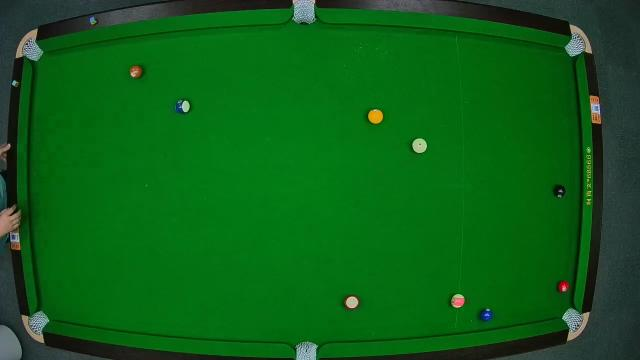bag1: (19, 36, 45, 64)
bag2: (292, 0, 316, 26)
bag3: (563, 30, 589, 57)
bag4: (25, 309, 51, 339)
bag5: (294, 340, 318, 360)
bag6: (560, 306, 586, 334)
ball0: (412, 137, 428, 155)
ball1: (368, 108, 384, 126)
ball10: (174, 98, 190, 114)
ball11: (344, 295, 361, 311)
ball12: (450, 294, 466, 308)
ball2: (478, 306, 496, 322)
ball3: (556, 279, 570, 295)
ball7: (128, 62, 144, 80)
ball8: (552, 183, 568, 199)
